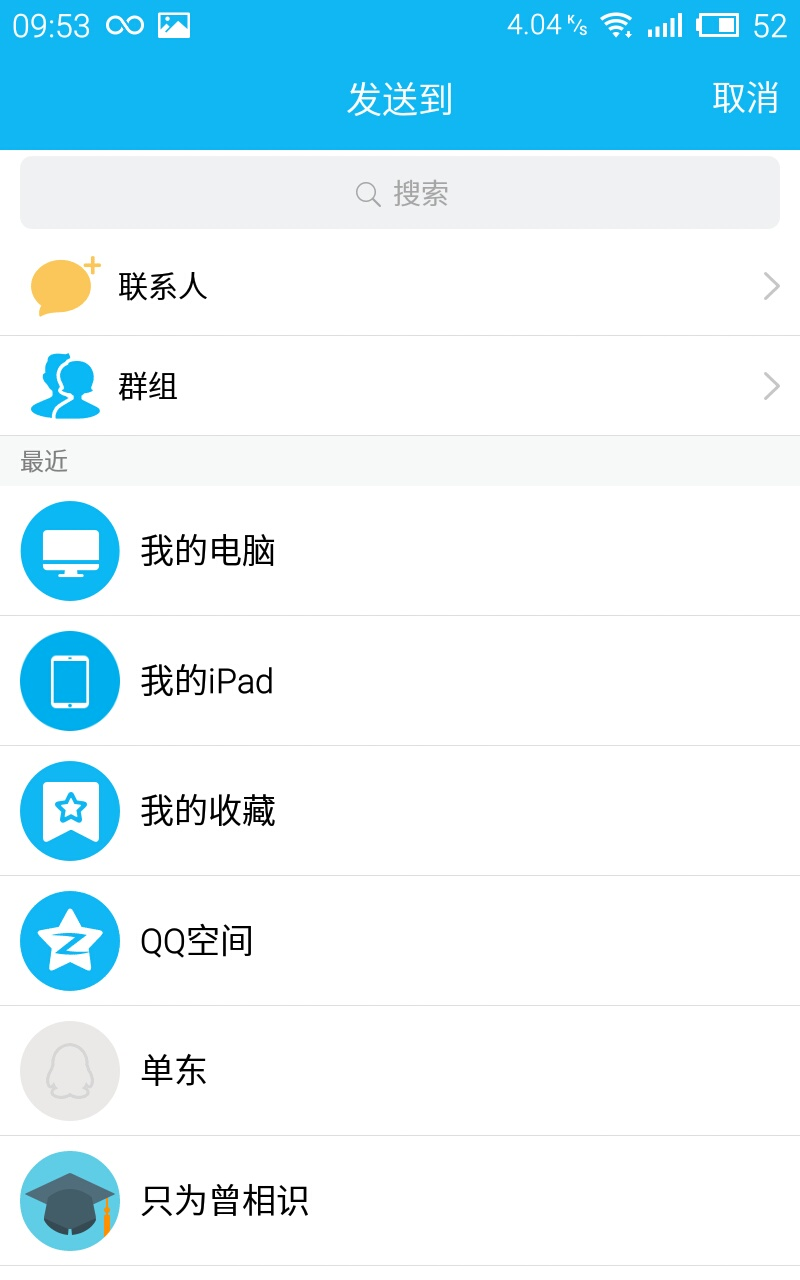imgview: (19, 494, 127, 604), (17, 758, 125, 863), (18, 629, 129, 731), (21, 1145, 123, 1250)
textview: (8, 477, 796, 1280), (18, 153, 791, 231), (134, 784, 291, 846), (135, 649, 285, 710), (138, 913, 277, 973)
